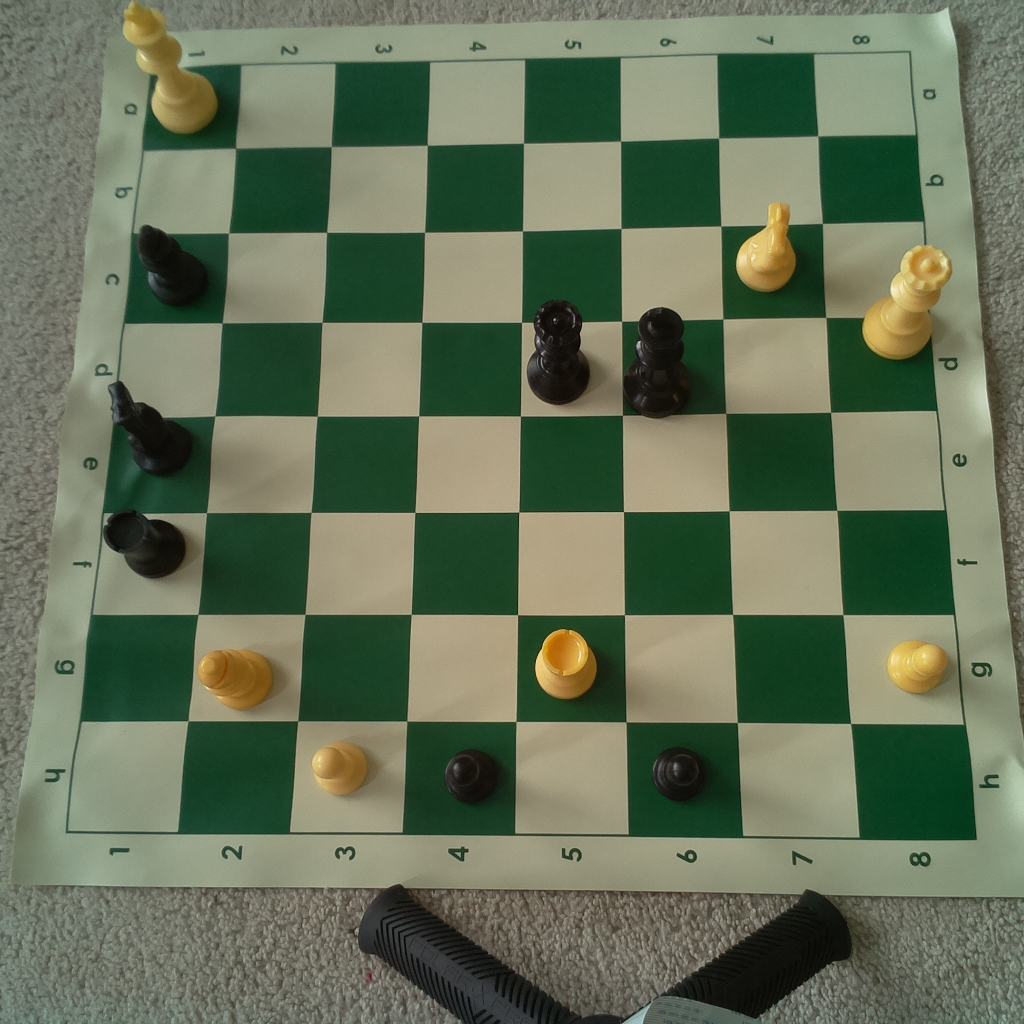black_bishop: (136, 219, 210, 312)
black_king: (623, 304, 694, 421)
black_knight: (99, 377, 198, 475)
black_pawn: (444, 738, 505, 809), (646, 745, 710, 802)
black_queen: (524, 295, 596, 408)
black_rook: (98, 502, 193, 580)
file_a: (142, 51, 916, 152)
file_b: (134, 134, 925, 235)
file_c: (121, 223, 931, 322)
file_d: (115, 318, 937, 419)
file_e: (102, 409, 947, 510)
file_f: (89, 508, 955, 617)
file_g: (80, 617, 964, 726)
file_h: (67, 721, 980, 839)
outline: (67, 52, 975, 840)
rank_1: (67, 64, 242, 832)
rank_2: (177, 60, 337, 834)
rank_3: (286, 60, 431, 838)
rank_4: (402, 62, 523, 836)
rank_5: (512, 60, 632, 834)
rank_6: (618, 53, 745, 838)
rank_7: (719, 54, 860, 836)
rank_8: (814, 53, 980, 839)
white_bishop: (196, 640, 281, 712)
white_king: (112, 1, 227, 134)
white_knight: (727, 195, 801, 295)
white_pawn: (884, 632, 958, 704), (308, 735, 372, 805)
white_queen: (858, 240, 957, 367)
white_rook: (524, 625, 605, 701)
